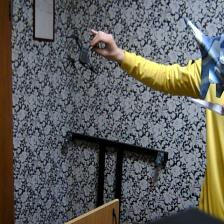drone: (62, 20, 104, 83)
